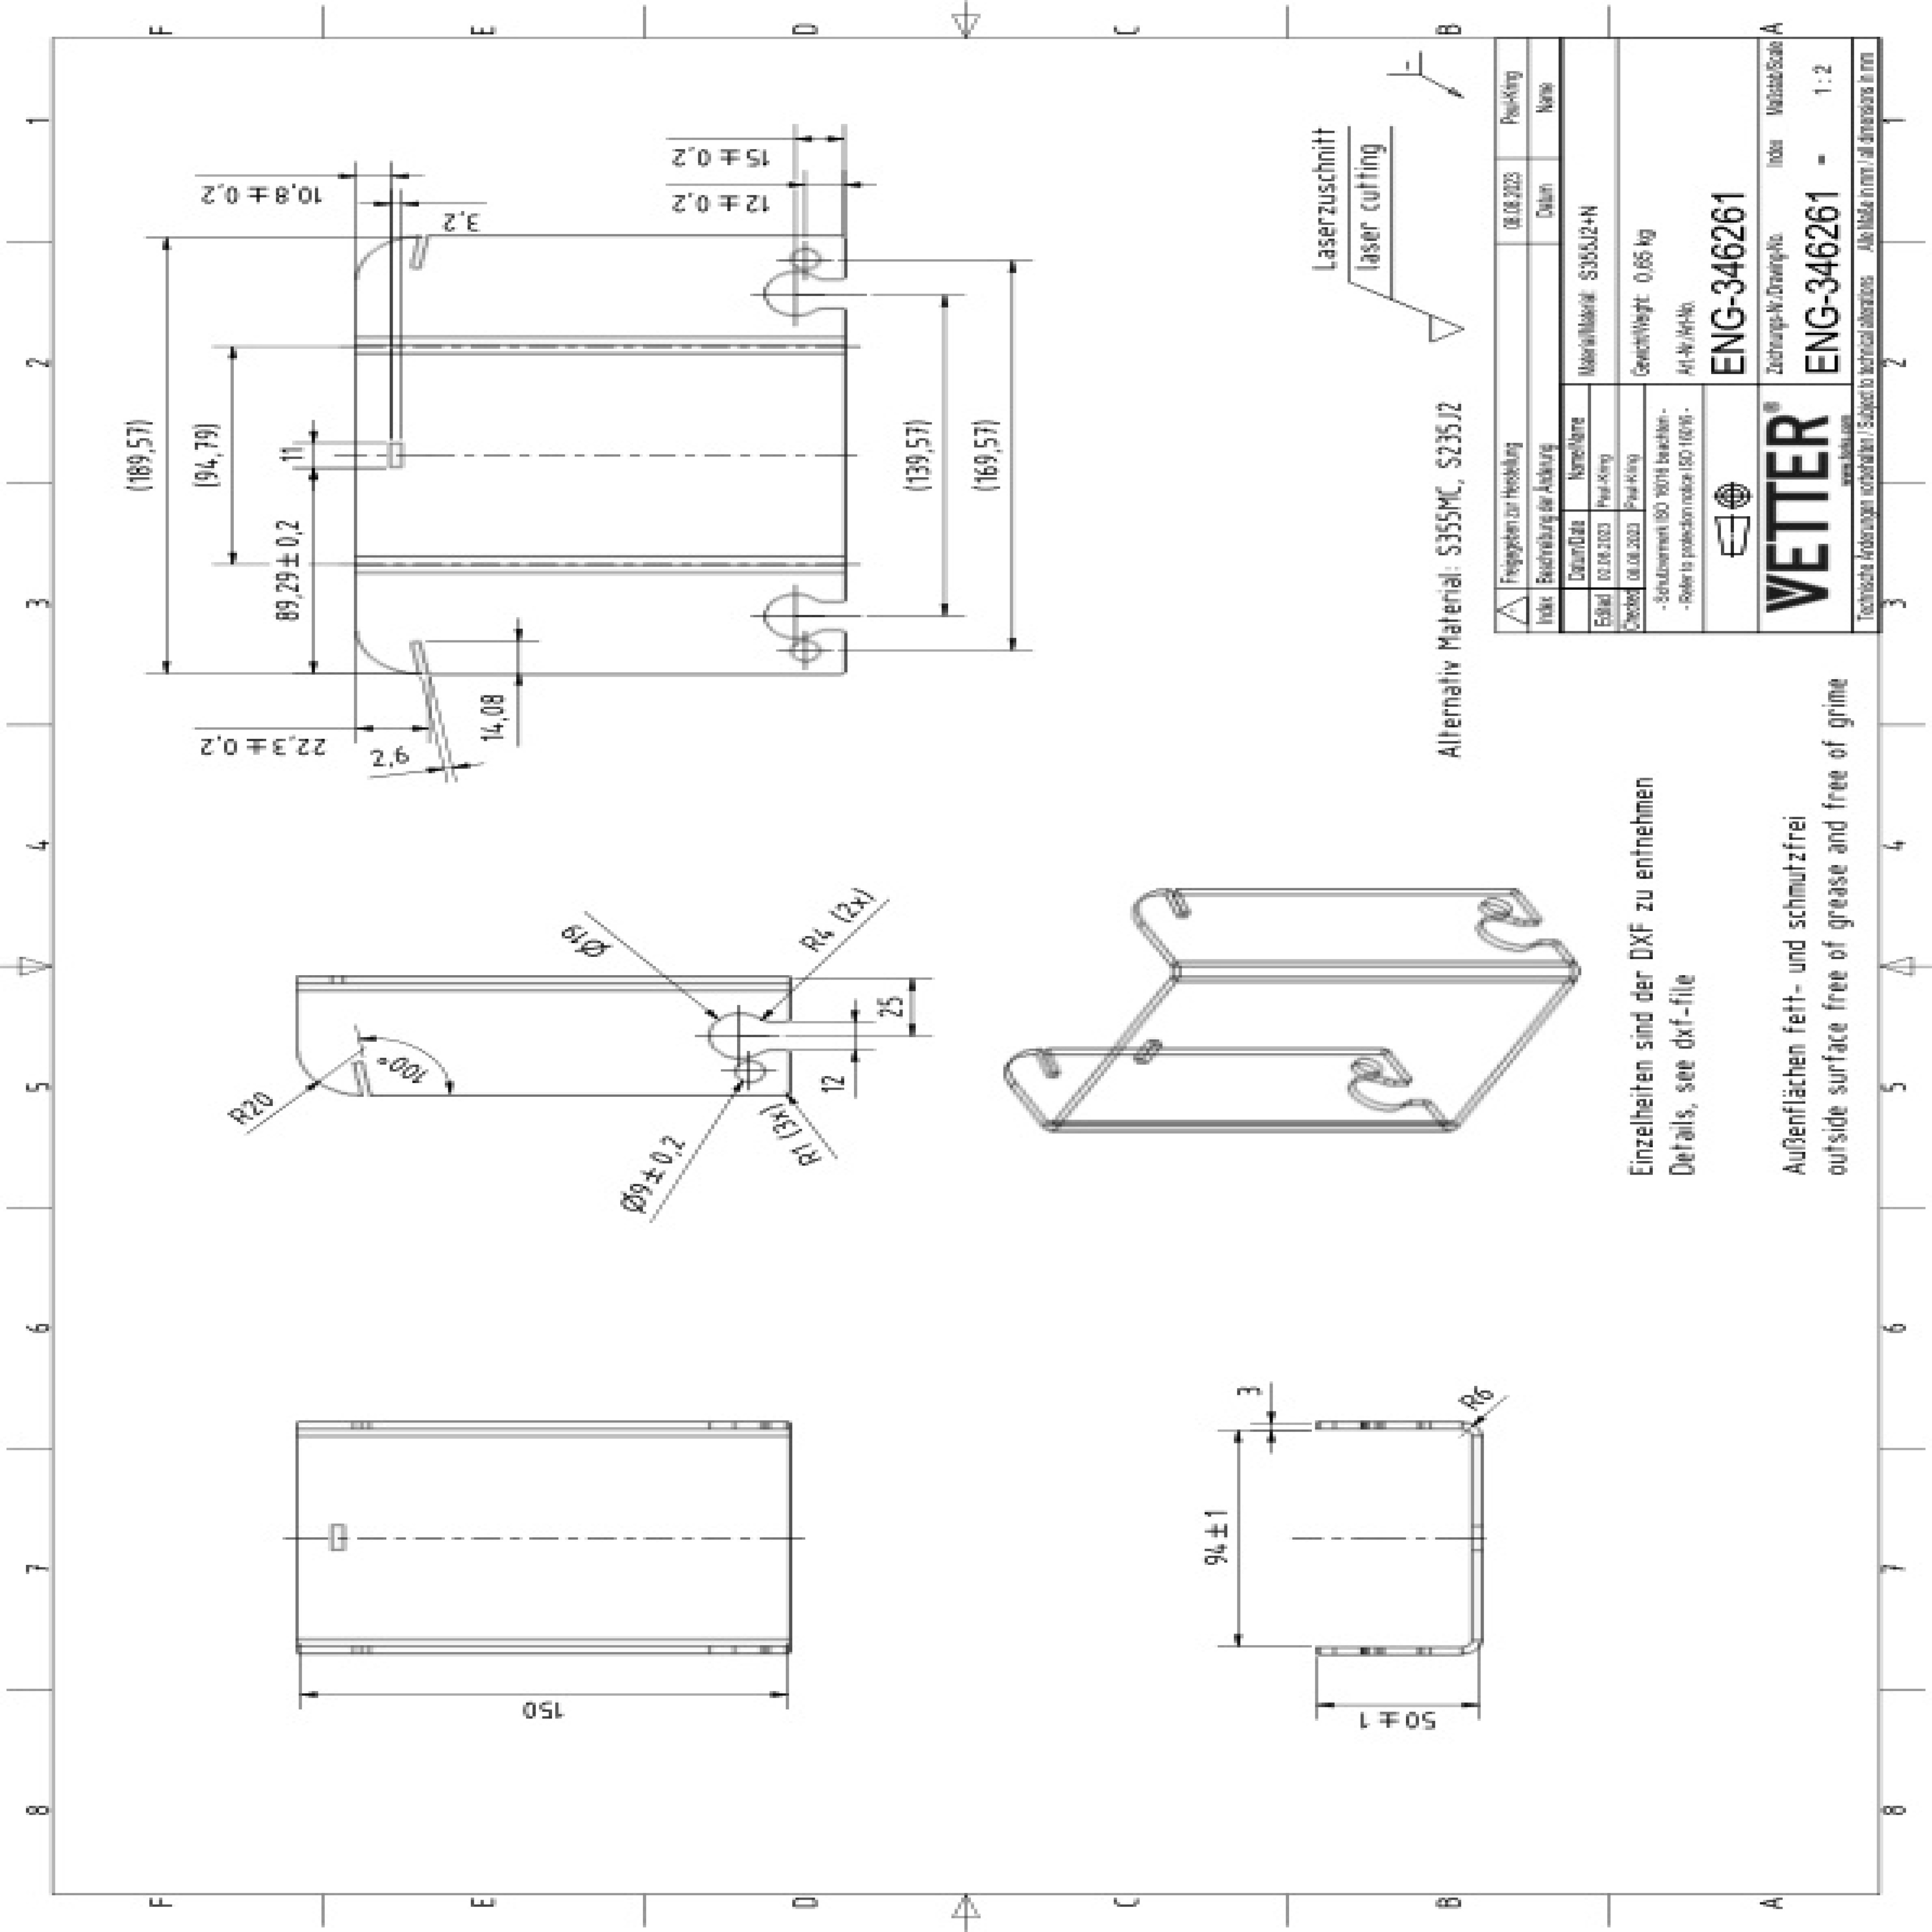InnerContour: (731, 1057, 766, 1086), (787, 248, 825, 273), (1477, 896, 1518, 919), (789, 640, 826, 665), (1346, 1055, 1384, 1076)
InnerContourAngular: (1135, 1038, 1166, 1066), (383, 440, 409, 471), (331, 1517, 351, 1556)
Notch: (704, 1008, 798, 1062), (764, 588, 854, 642), (762, 269, 856, 320), (1472, 909, 1566, 956), (1344, 1070, 1437, 1116), (349, 1059, 376, 1099), (1034, 1045, 1064, 1081), (404, 639, 432, 676), (408, 230, 432, 270), (1163, 885, 1193, 919)
